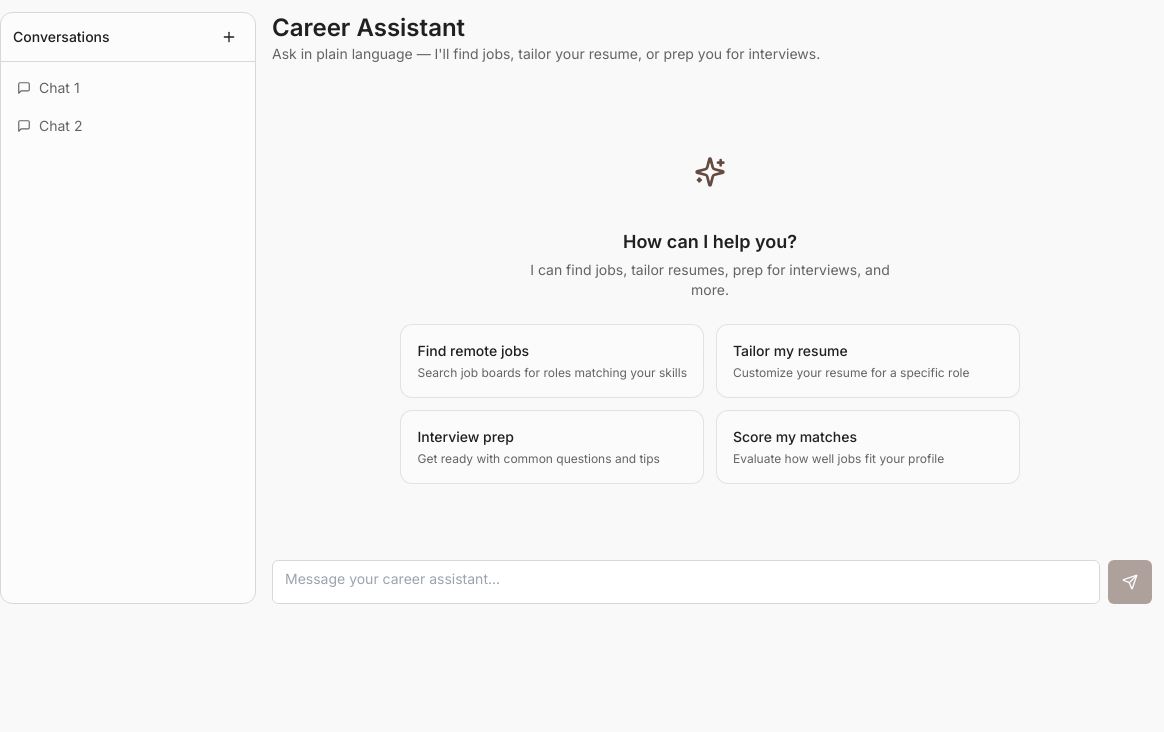
Test: AgentChatView › renders suggestions from assistant result
In the text box with placeholder "Message your career assistant…": x=686, y=582 [272,560,1100,604], type "Find jobs"
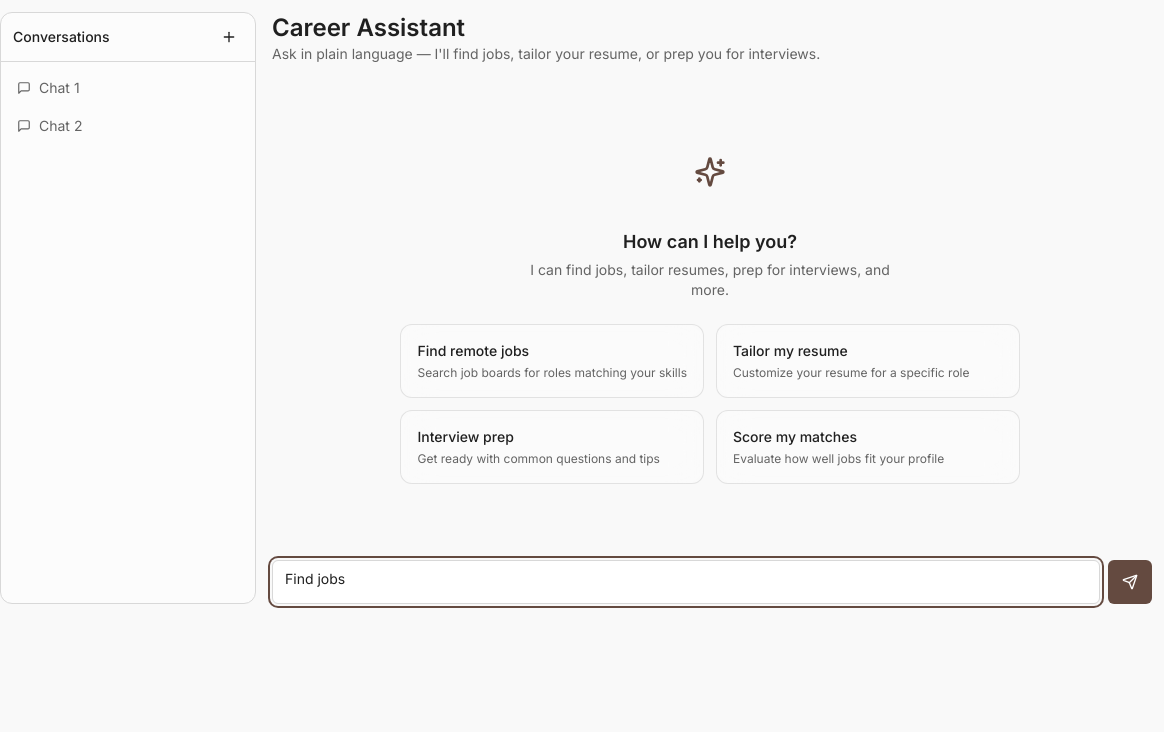
Click the button named "send": x=1130, y=582 [1108,560,1152,604]
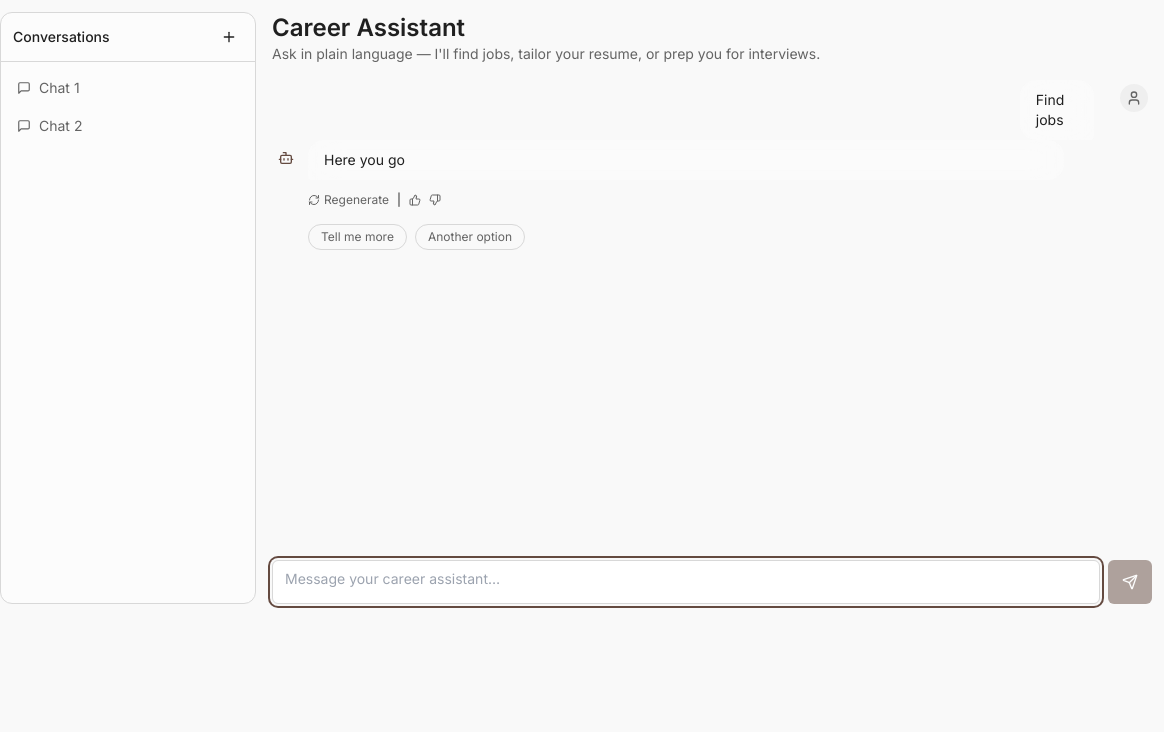
Now the button "Tell me more" is shown, box [308,224,407,250]
